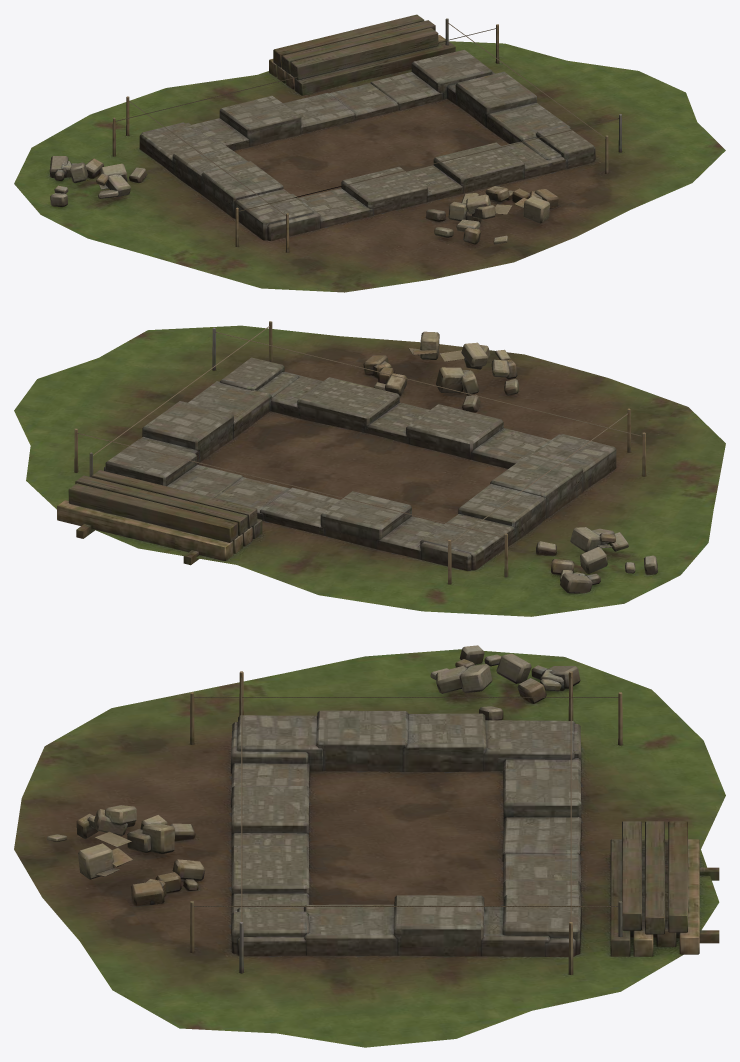
The model's file is chapel_build1.glb.
The picture shows the model from 3 angles, top to bottom: view 1: azimuth 30°, elevation 25°; view 2: azimuth 150°, elevation 25°; view 3: azimuth 270°, elevation 25°; orthographic projection. The views are drawn at different scales.
Parts seen in each view (by area): view 1: chapel_build1_LOD0; view 2: chapel_build1_LOD0; view 3: chapel_build1_LOD0.
Part boxes in pixels (x1,y1,x2,y2): chapel_build1_LOD0: (14,14,725,292); chapel_build1_LOD0: (14,321,725,616); chapel_build1_LOD0: (14,645,725,1047).
Size of what is drawn, in the model's own units: 11.45 by 0.8 by 8.65.
Materials: 1 (1 with a texture image).
